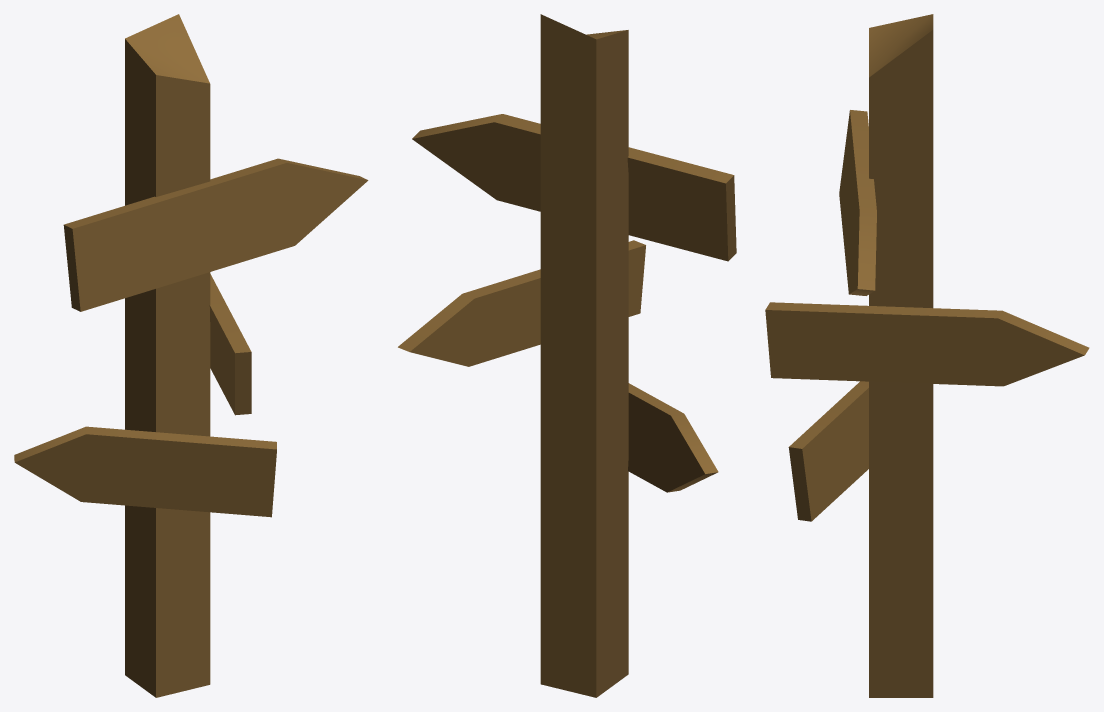
The model's file is SignPost.gltf.
3 renders of one model, left to right at view 1: azimuth 30°, elevation 25°; view 2: azimuth 150°, elevation 25°; view 3: azimuth 270°, elevation 25°, orthographic. The views are drawn at different scales.
Visible parts, largest first — view 1: SF_Prop_SignPost_01; view 2: SF_Prop_SignPost_01; view 3: SF_Prop_SignPost_01.
Part boxes in pixels (x1=…): SF_Prop_SignPost_01: x1=14, y1=14, x2=368, y2=697; SF_Prop_SignPost_01: x1=398, y1=14, x2=736, y2=697; SF_Prop_SignPost_01: x1=765, y1=14, x2=1089, y2=697.
Bounding box in the file's own units: 0.016 × 0.0308 × 0.0136.
1 material, 1 textured.
